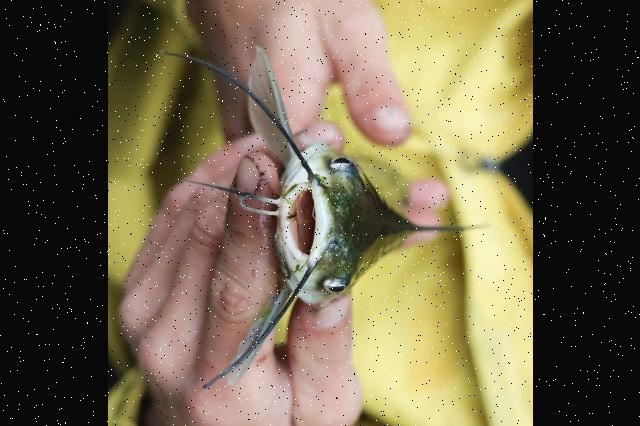Mulut: (258, 164, 344, 270)
Sirip Dada: (227, 30, 311, 178), (208, 272, 300, 396)
